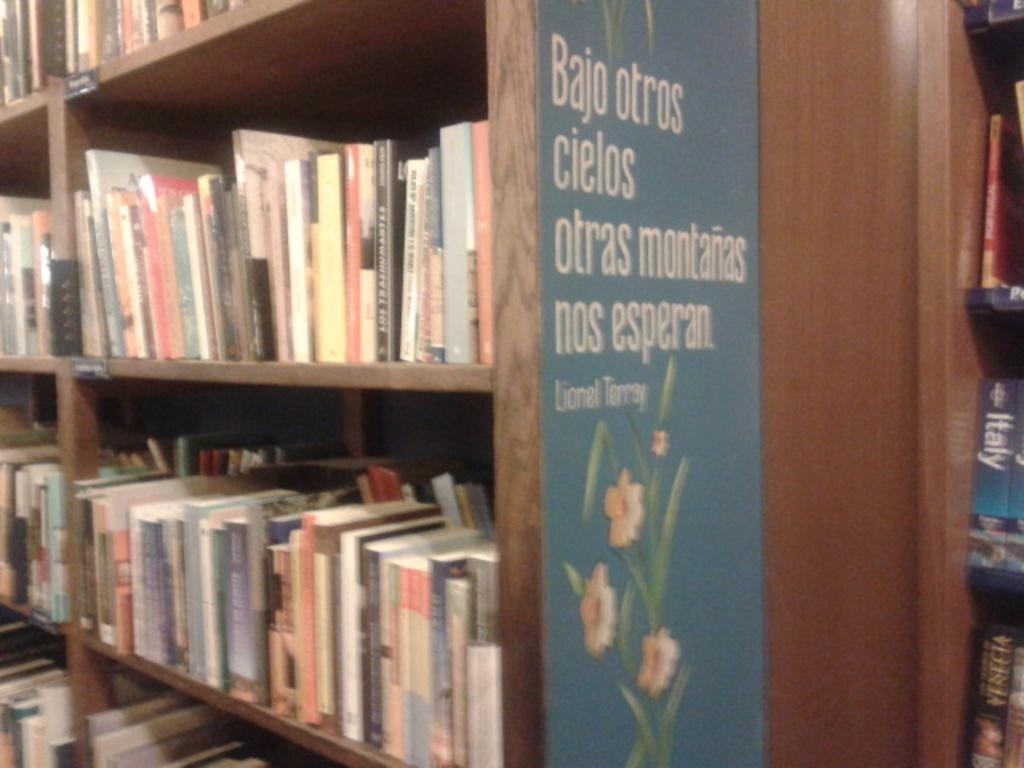Book: (70, 427, 507, 766), (66, 118, 490, 365), (0, 0, 258, 109), (232, 128, 346, 355), (82, 667, 328, 766), (0, 384, 67, 613), (965, 370, 1022, 606), (974, 72, 1022, 291), (0, 611, 67, 766), (949, 629, 1022, 766), (0, 184, 58, 350)
